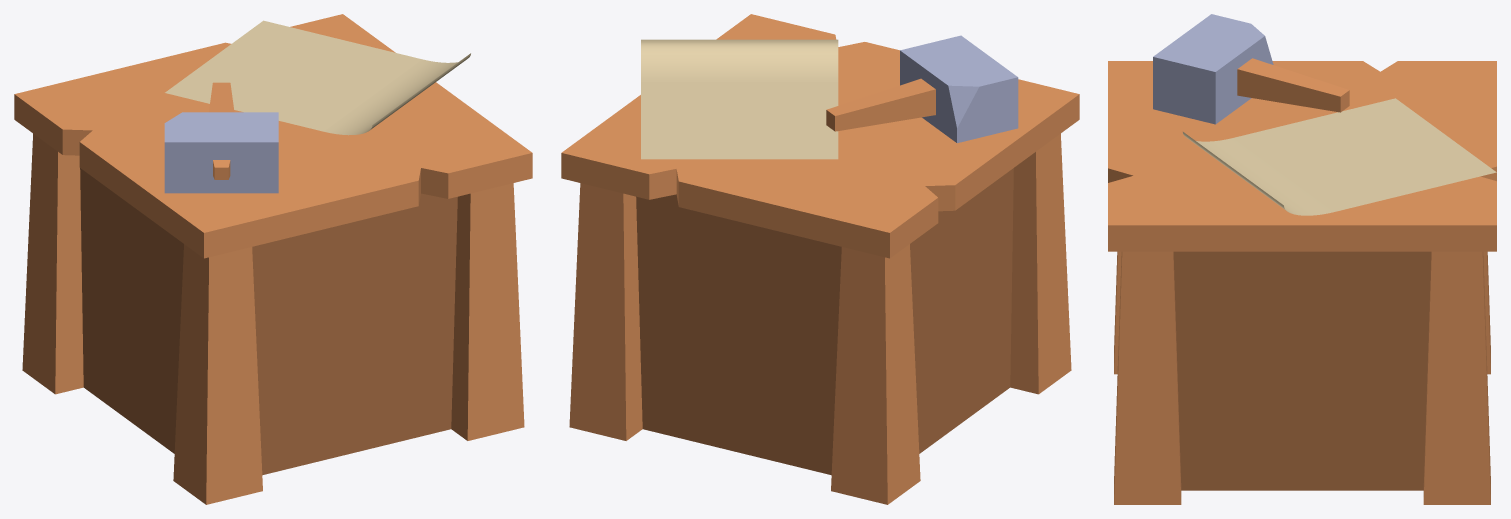
File: workbench.fbx
3 views of the same model, side by side, from view 1: azimuth 30°, elevation 25°; view 2: azimuth 150°, elevation 25°; view 3: azimuth 270°, elevation 25° (orthographic). The views are drawn at different scales.
Parts seen in each view (by area): view 1: workbench, paper, hammer; view 2: workbench, paper, hammer; view 3: workbench, paper, hammer.
Part boxes in pixels (x1,y1,x2,y2): workbench: (14, 14, 532, 504); paper: (165, 20, 470, 135); hammer: (164, 82, 278, 193); workbench: (561, 14, 1079, 504); paper: (641, 39, 838, 159); hammer: (826, 35, 1018, 143); workbench: (1108, 61, 1496, 504); paper: (1183, 98, 1496, 215); hammer: (1153, 14, 1349, 124).
Bounding box in the file's own units: 11.55 × 10.21 × 10.75.
